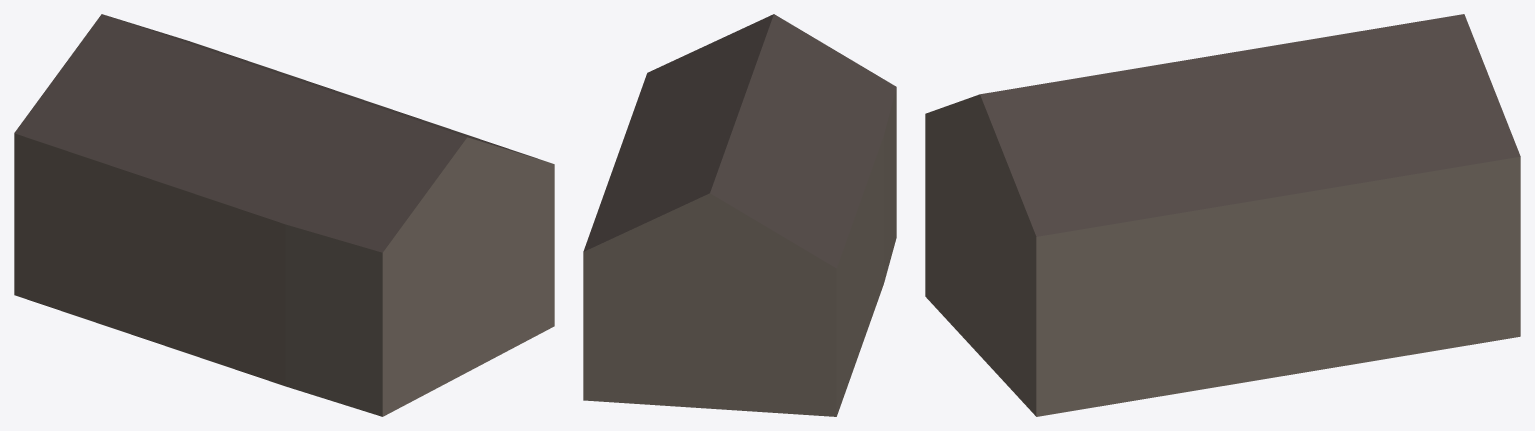
3 views of the same model, side by side, from view 1: azimuth 30°, elevation 25°; view 2: azimuth 150°, elevation 25°; view 3: azimuth 270°, elevation 25° (orthographic). The views are drawn at different scales.
Parts seen in each view (by area): view 1: HP-w1200772469; view 2: HP-w1200772469; view 3: HP-w1200772469.
Part boxes in pixels (box(x1,y1,x2,y2)): HP-w1200772469: box(14, 14, 554, 416); HP-w1200772469: box(583, 14, 896, 416); HP-w1200772469: box(925, 14, 1520, 416).
Size of the model in its own units: 14.49 by 8.71 by 17.98.
